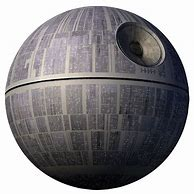Death Star: (5, 7, 188, 190)
